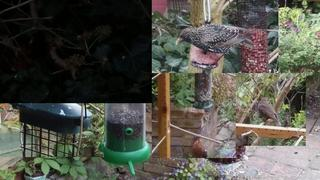starling: (176, 24, 254, 54), (258, 97, 282, 127)
